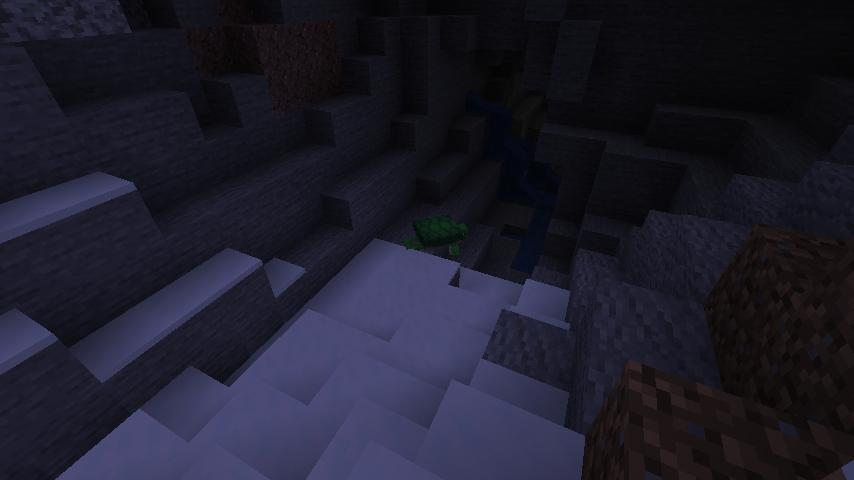turtle: (403, 210, 471, 257)
